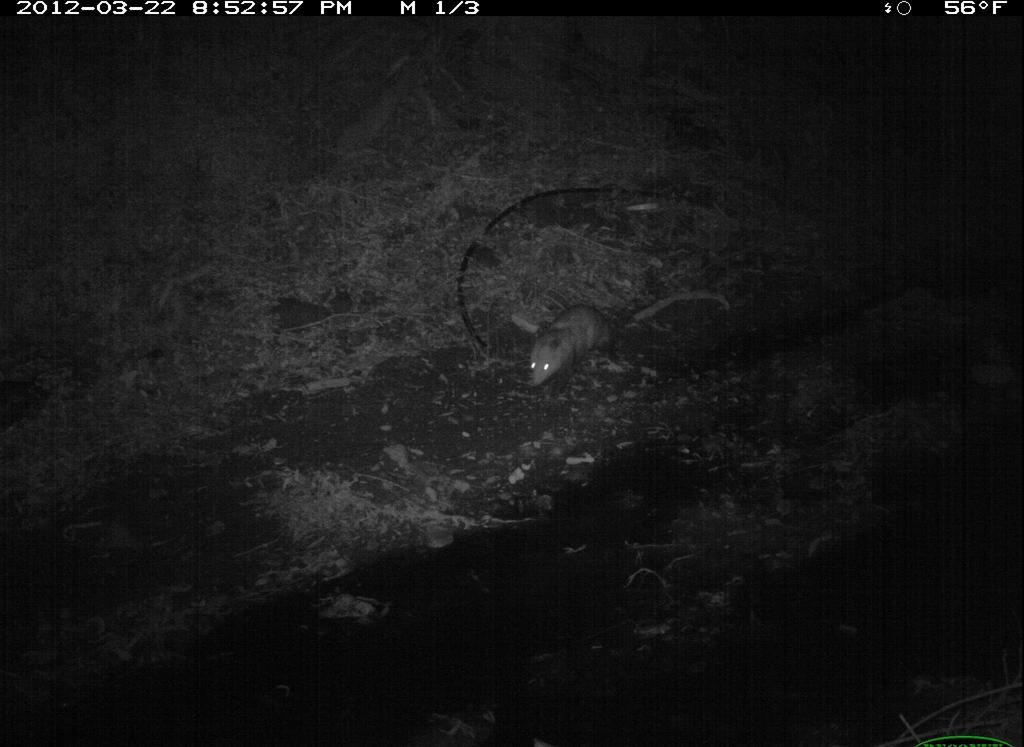opossum: (513, 292, 634, 402)
